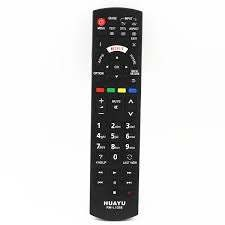remote control: (91, 9, 139, 222)
